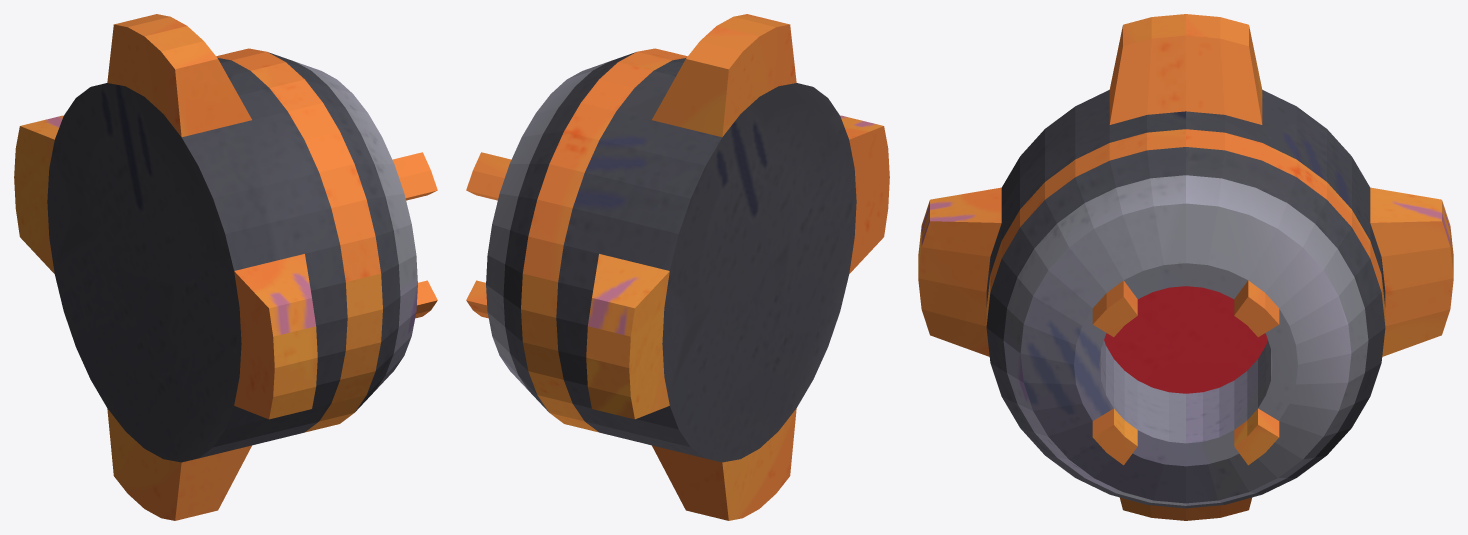
Rendered from Laser.glb.
3 renders of one model, left to right at view 1: azimuth 30°, elevation 25°; view 2: azimuth 150°, elevation 25°; view 3: azimuth 270°, elevation 25°, orthographic. The views are drawn at different scales.
Parts seen in each view (by area): view 1: Cylinder; view 2: Cylinder; view 3: Cylinder.
Part boxes in pixels (x1,y1,x2,y2): Cylinder: (14,14,437,520); Cylinder: (466,14,889,520); Cylinder: (918,14,1453,520).
Bounding box in the file's own units: 0.3634 × 0.6615 × 0.6615.
4 materials, 3 textured.
